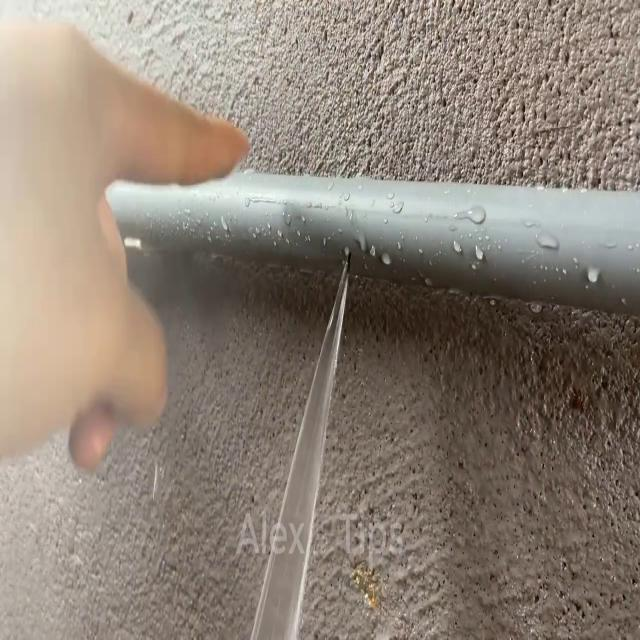leak: (249, 250, 348, 640)
